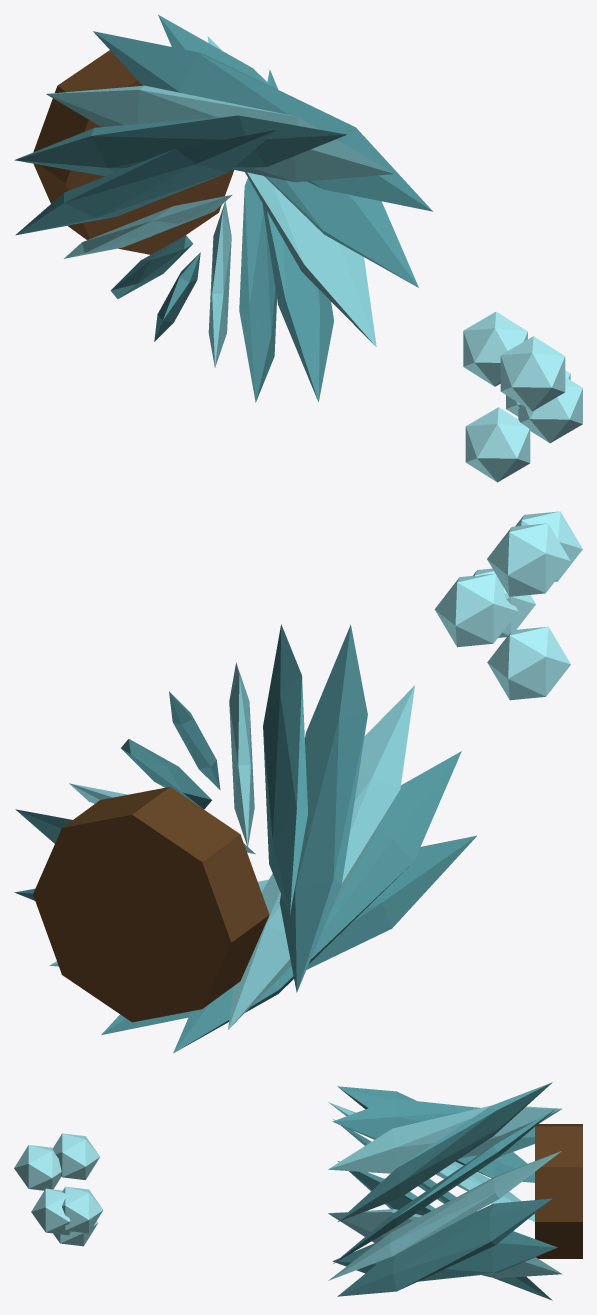
Rendered from 4_mature.obj.
The picture shows the model from 3 angles, top to bottom: view 1: azimuth 30°, elevation 25°; view 2: azimuth 150°, elevation 25°; view 3: azimuth 270°, elevation 25°; orthographic projection. The views are drawn at different scales.
Parts seen in each view (by area): view 1: ranarr_4_mature; view 2: ranarr_4_mature; view 3: ranarr_4_mature.
Boxes of the visible parts, left/top/right/bottom form: ranarr_4_mature: left=14, top=15, right=582, bottom=482; ranarr_4_mature: left=14, top=511, right=582, bottom=1053; ranarr_4_mature: left=14, top=1082, right=582, bottom=1300.
Size of the model in its own units: 0.1808 by 0.1808 by 0.4745.
